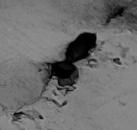crack: (1, 0, 137, 130)
